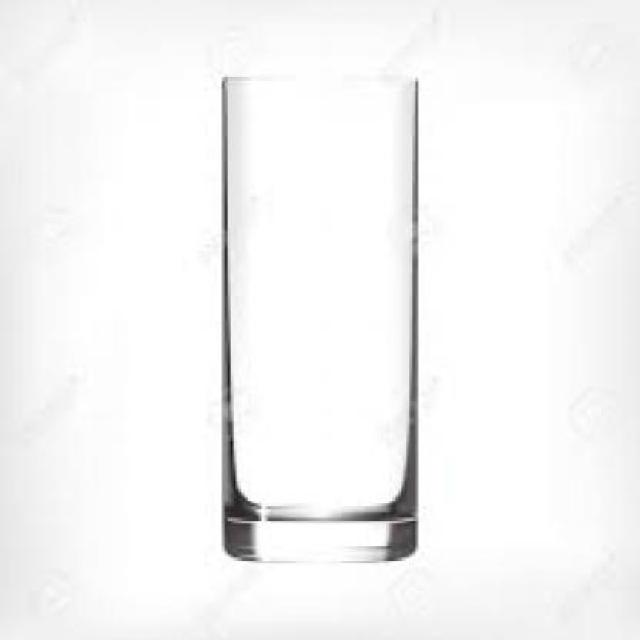kaca: (218, 72, 416, 558)
